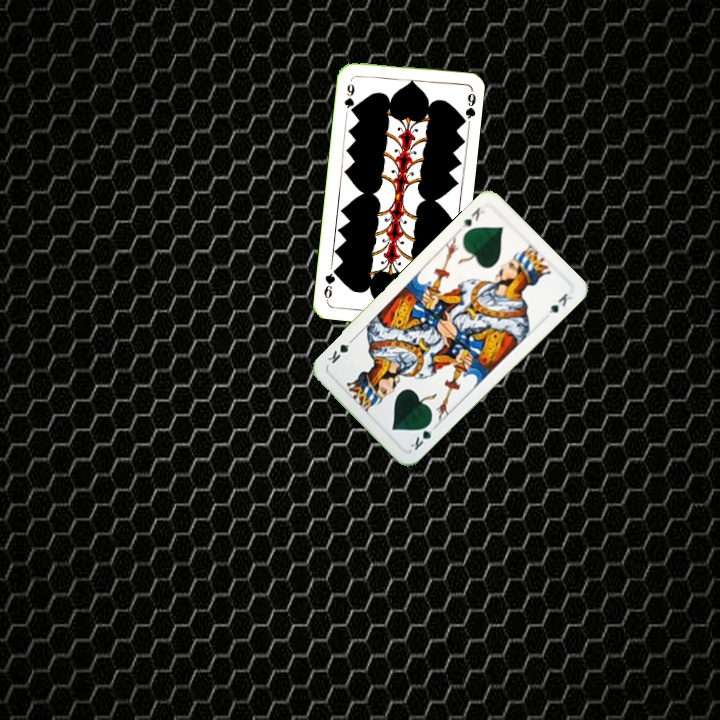G9: (340, 79, 357, 116)
GK: (406, 417, 440, 453), (455, 203, 487, 234)
